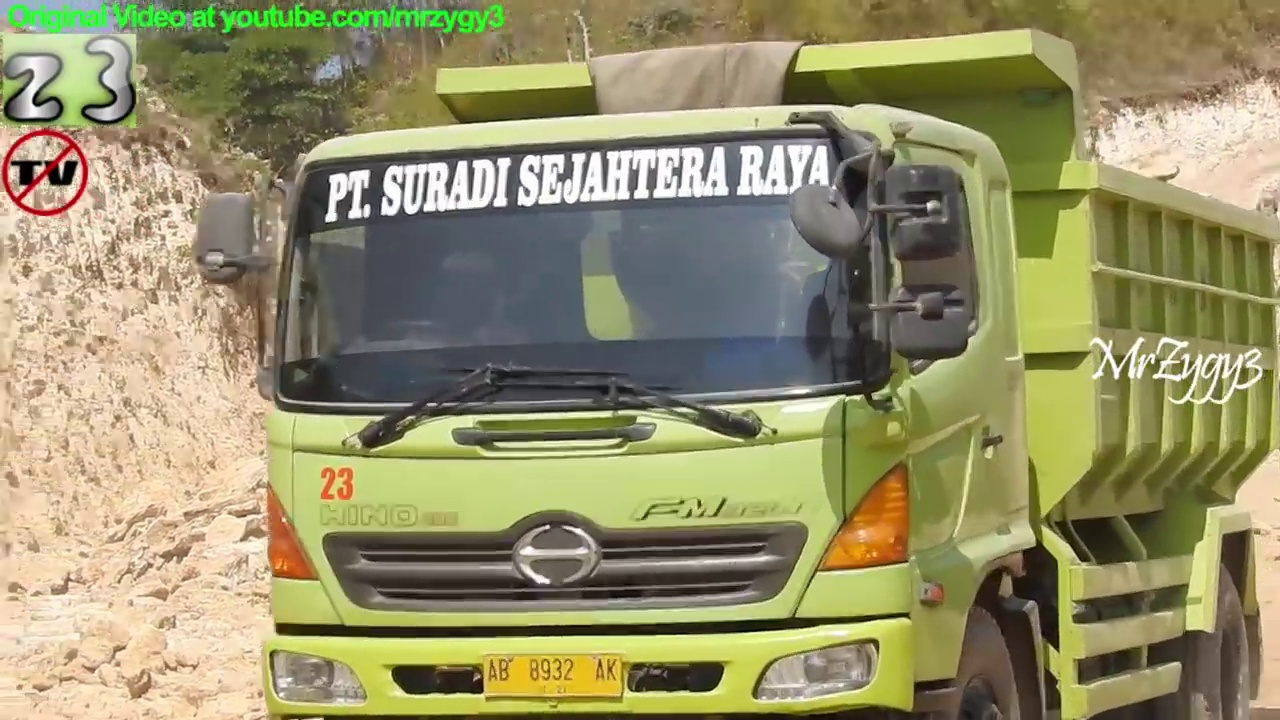truck: (195, 26, 1280, 720)
